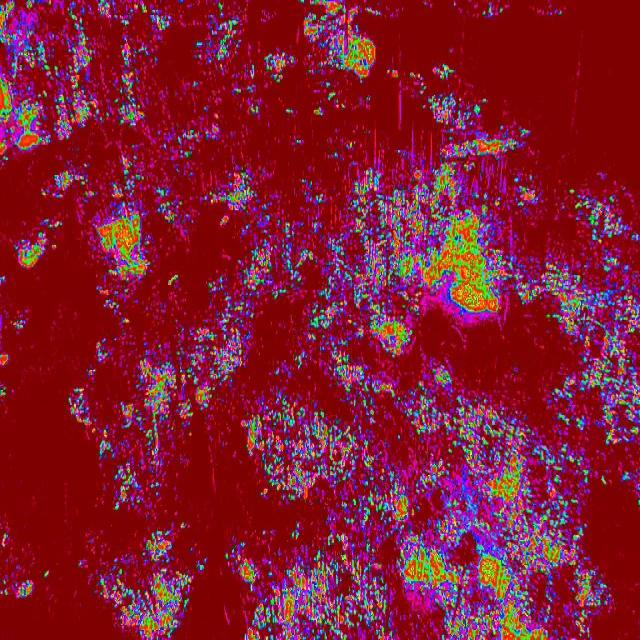fire: (100, 166, 388, 640), (390, 165, 640, 640), (0, 0, 388, 165), (388, 54, 537, 164), (14, 219, 62, 269), (1, 530, 32, 606), (63, 376, 95, 436), (45, 170, 97, 200), (0, 352, 8, 368)
